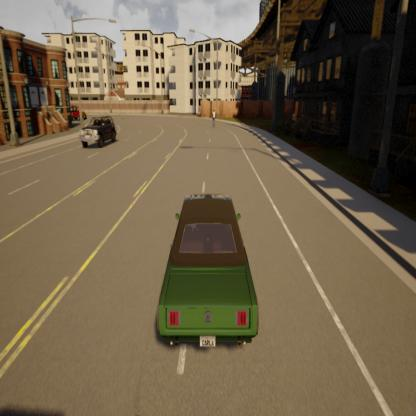Cars: (151, 177, 264, 363), (76, 114, 119, 154), (66, 96, 91, 123)
